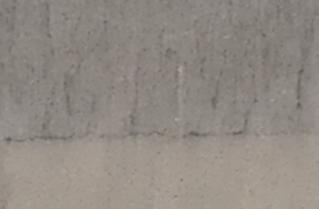fissura: (5, 83, 319, 153)
